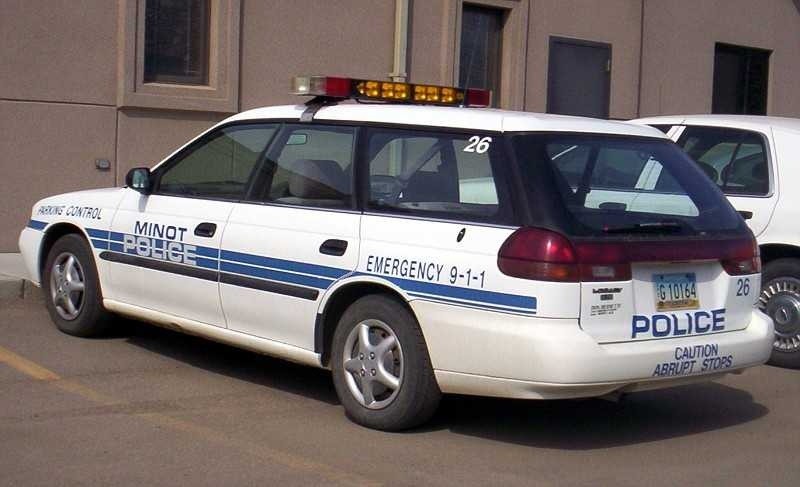Police Car: (35, 73, 800, 462)
